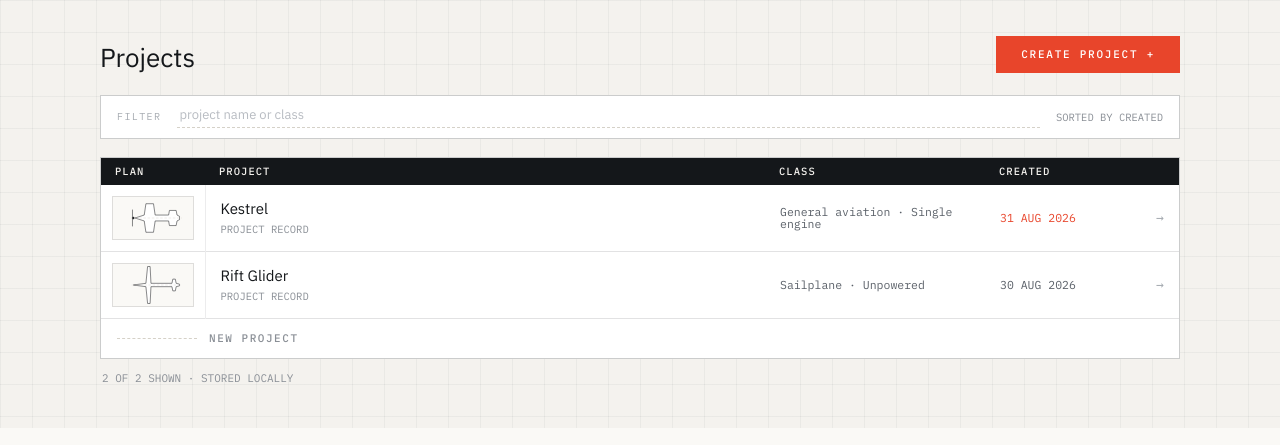
Scenario: filters projects by name and aircraft class
Expected: the text "General aviation · Single engine" is shown, [780,204,952,230]
Type "sailplane" into the field labelled "FILTER" at (609, 117), box [177,106,1040,128]
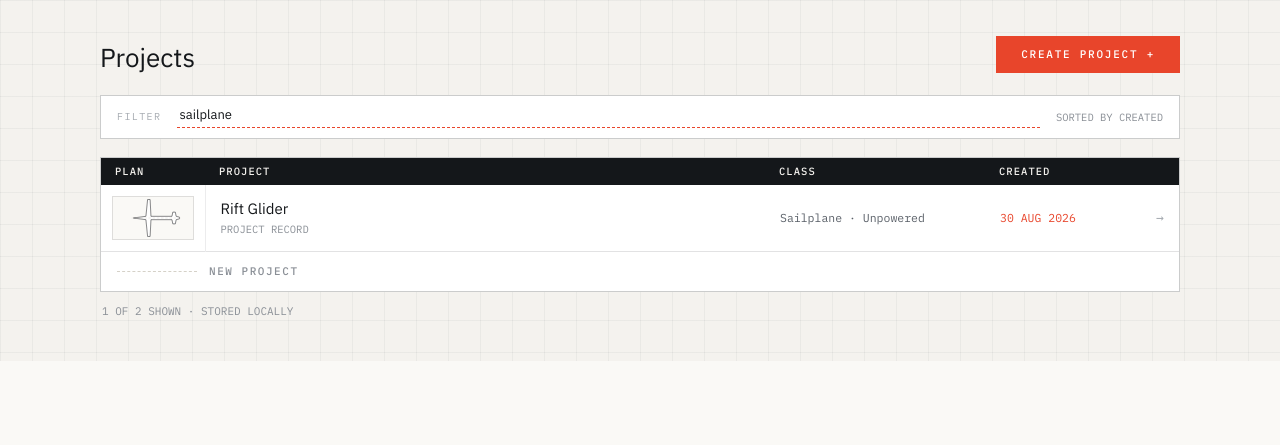
Now the heading "Rift Glider" is shown, box [220,200,288,218]
Now the link "Kestrel" is gone
Now the text "1 OF 2 SHOWN · STORED LOCALLY" is shown, box [102,304,293,318]
